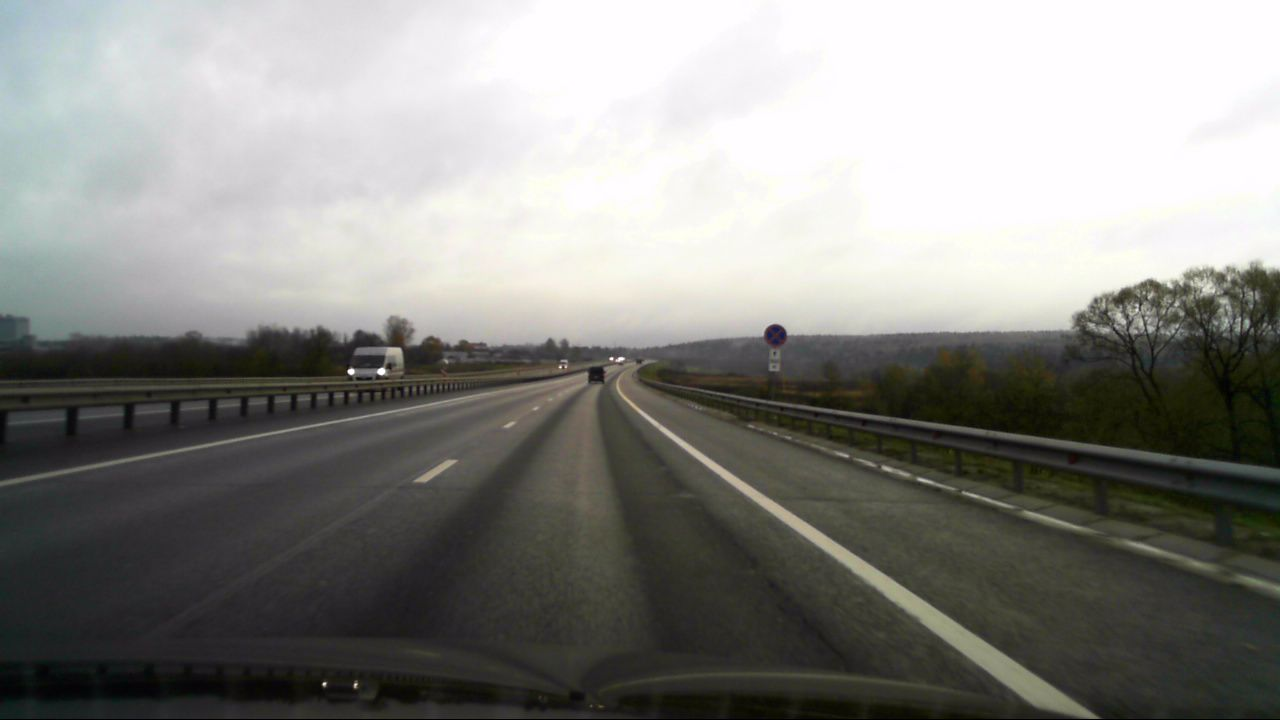No Parking: (764, 324, 787, 348)
